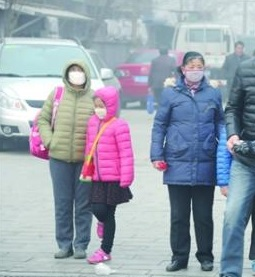person: (150, 51, 218, 272), (31, 58, 91, 260), (82, 86, 135, 264), (219, 54, 255, 275), (147, 44, 180, 90), (222, 40, 251, 78)
